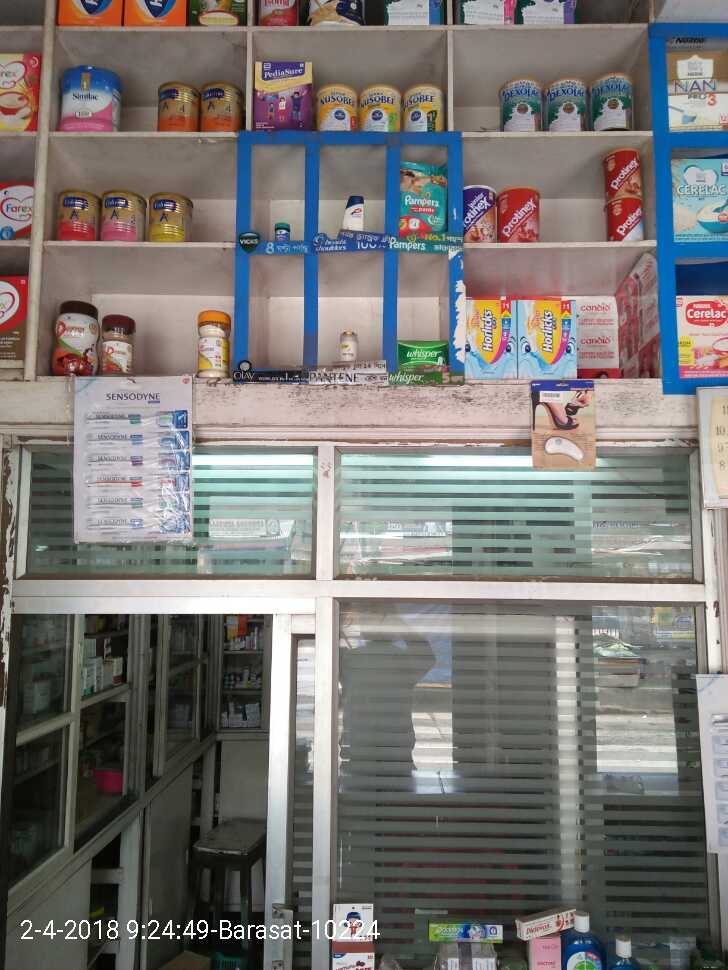vicks: (265, 222, 294, 241)
